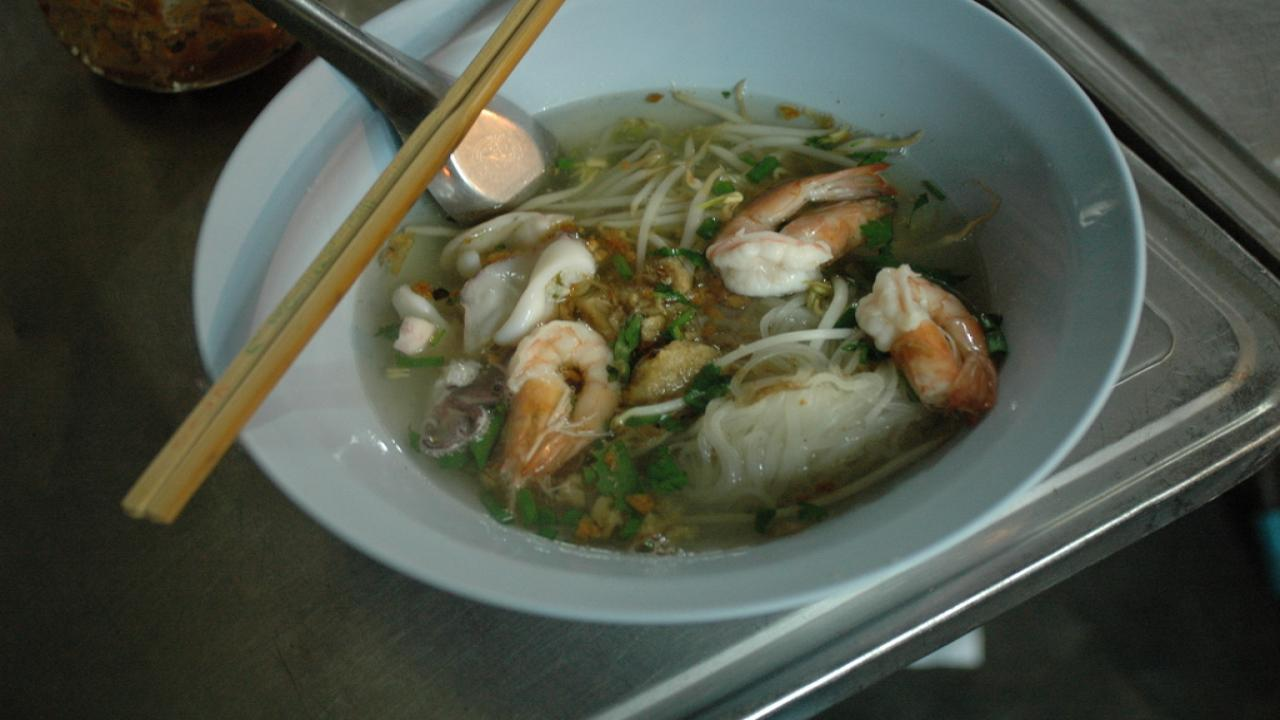chopstick: (120, 0, 566, 518)
